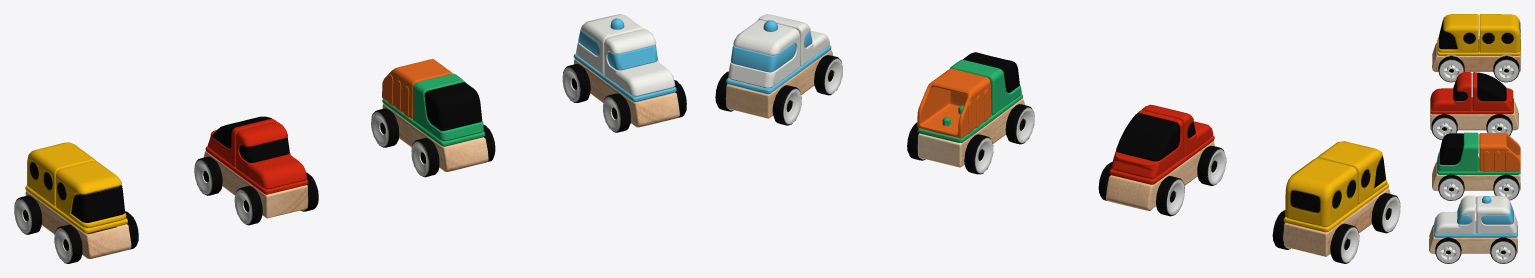
Rendered from lillabo_4_elementowy_zestaw_pojazdow_50589361.glb.
The picture shows the model from 3 angles, left to right: view 1: azimuth 30°, elevation 25°; view 2: azimuth 150°, elevation 25°; view 3: azimuth 270°, elevation 25°; orthographic projection. The views are drawn at different scales.
Parts seen in each view (by area): view 1: lillabo_4_elementowy_zestaw_pojazdow_50589361; view 2: lillabo_4_elementowy_zestaw_pojazdow_50589361; view 3: lillabo_4_elementowy_zestaw_pojazdow_50589361.
Part boxes in pixels (left/top/right/bottom): lillabo_4_elementowy_zestaw_pojazdow_50589361: left=14, top=14, right=686, bottom=263; lillabo_4_elementowy_zestaw_pojazdow_50589361: left=715, top=14, right=1400, bottom=263; lillabo_4_elementowy_zestaw_pojazdow_50589361: left=1429, top=14, right=1520, bottom=263.
Size of the model in its own units: 0.4045 by 0.0532 by 0.0768.
Materials: 4 (4 with a texture image).
